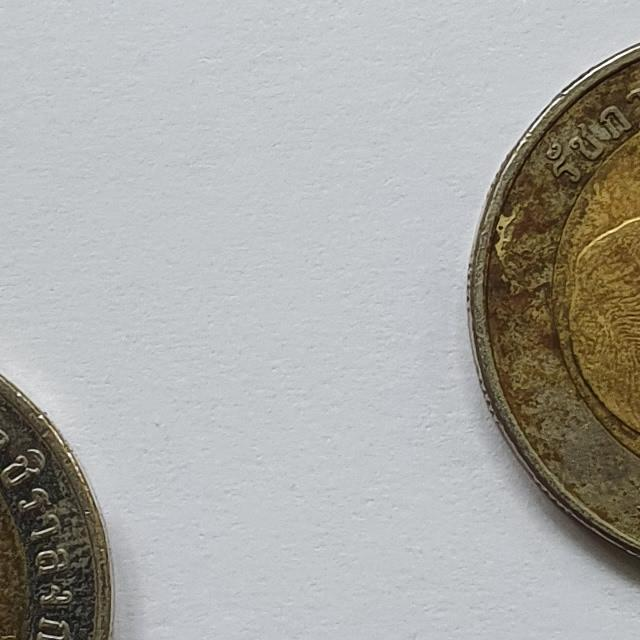10 Bath: (466, 34, 640, 576), (1, 354, 123, 640)
